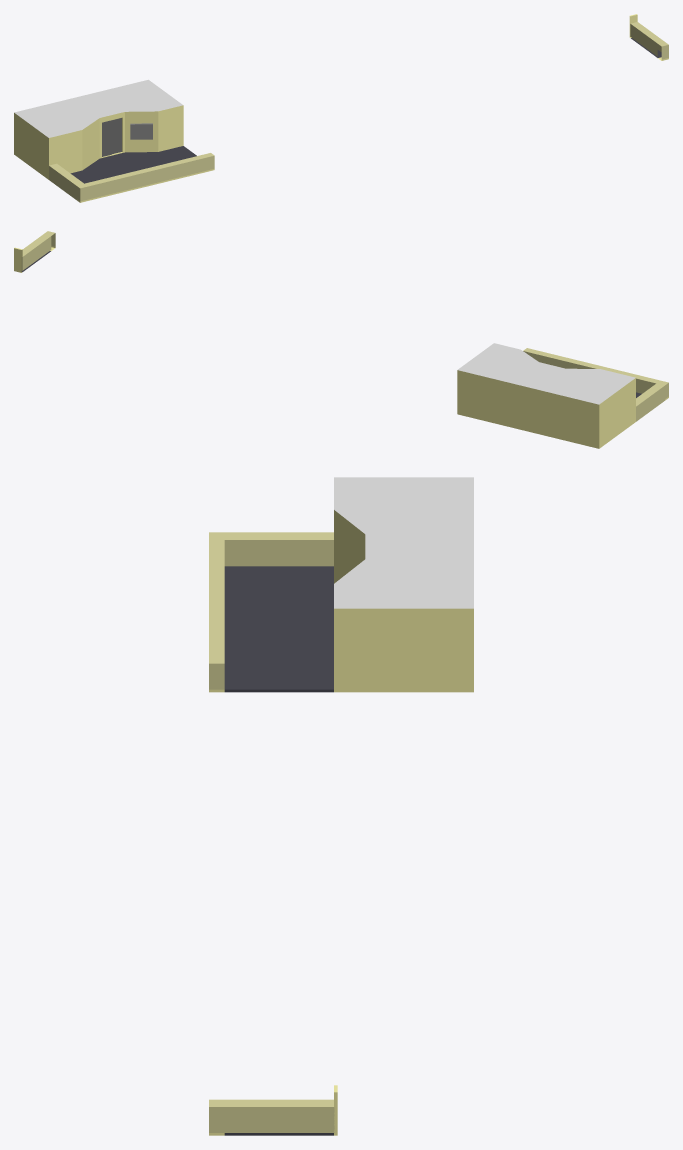
The model's file is MP_Environ_Outer_Accent_Piece.fbx.
3 renders of one model, top to bottom at view 1: azimuth 30°, elevation 25°; view 2: azimuth 150°, elevation 25°; view 3: azimuth 270°, elevation 25°, orthographic. The views are drawn at different scales.
Visible parts, largest first — view 1: Elevator_Side; view 2: Elevator_Side; view 3: Elevator_Side.
Part boxes in pixels (<box>): Elevator_Side: <box>14,14,668,202</box>; Elevator_Side: <box>14,231,668,448</box>; Elevator_Side: <box>209,477,473,1135</box>.
Bounding box in the file's own units: 2937 × 200 × 572.
